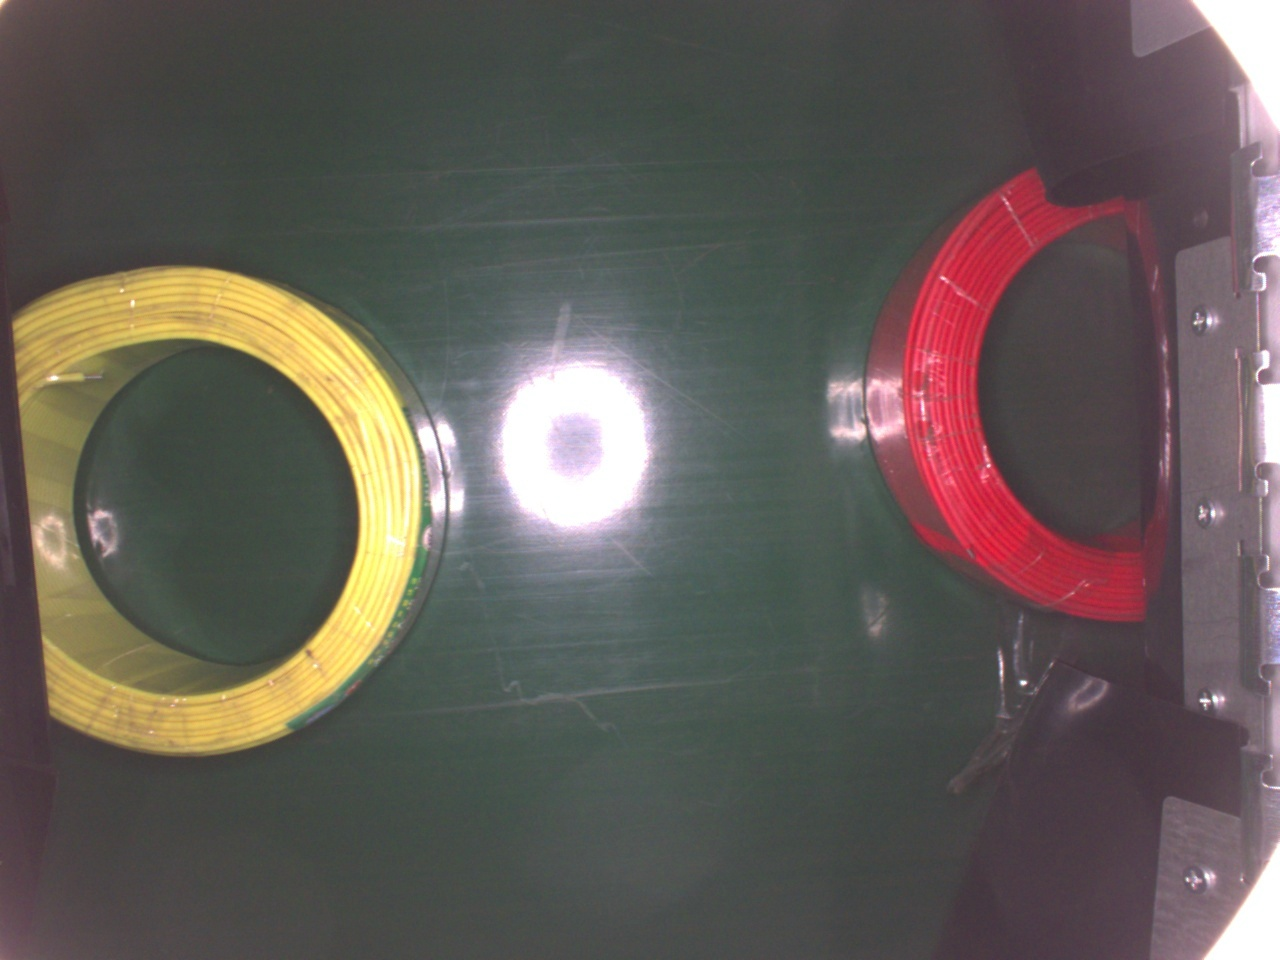red: (867, 157, 1164, 636)
yellow: (0, 264, 449, 757)
